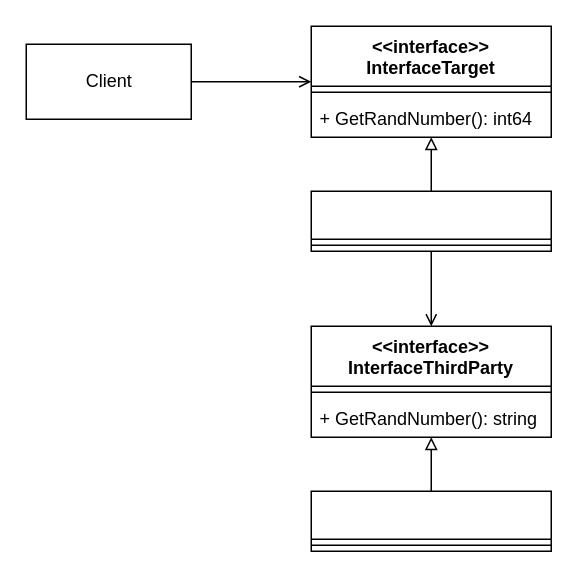
Some shapes in this 578 by 578 pixel diagram are drawn without their labels. Each missing label, with the centre of its shape:
"adapter" belongs at (x=430, y=220).
"thirdparty" belongs at (x=430, y=520).
